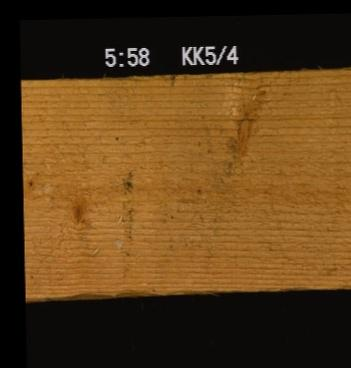small_knot: (64, 185, 93, 228), (22, 174, 35, 188), (191, 181, 203, 196)
